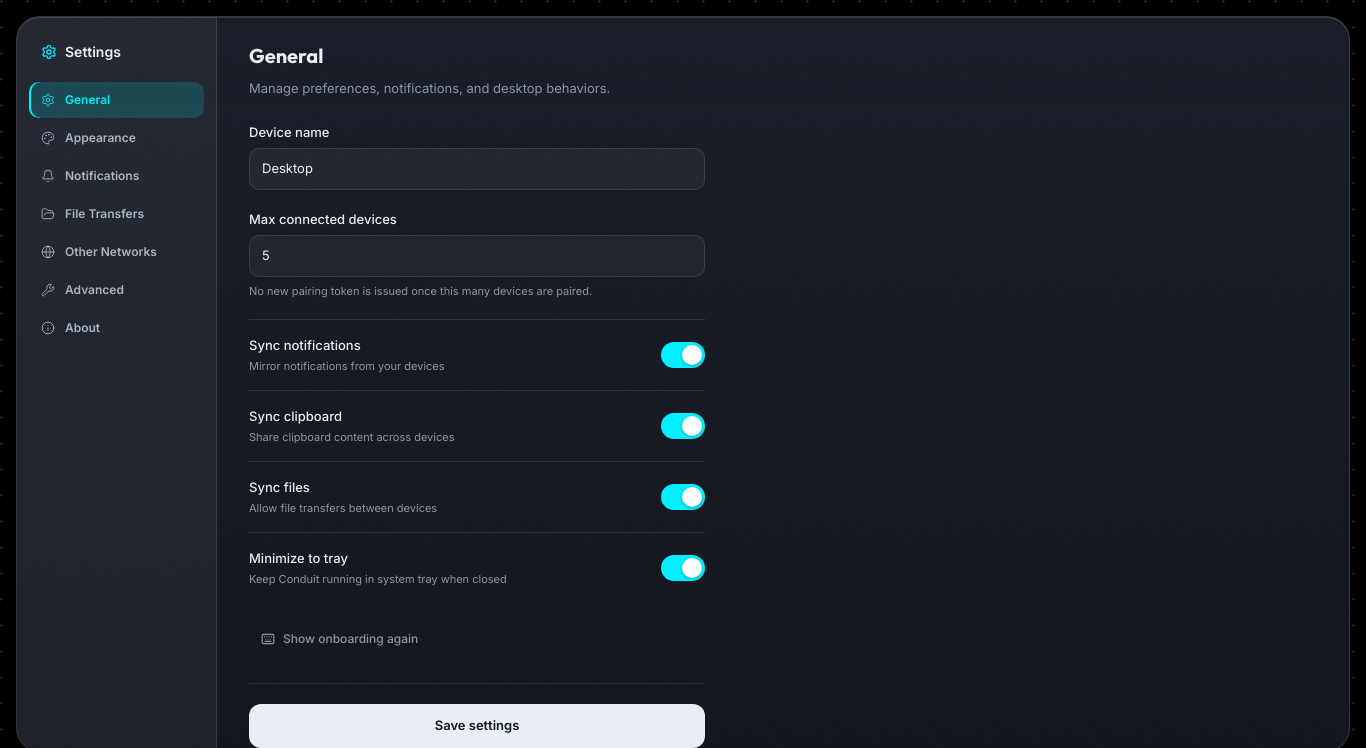
Settings › relay panel › shows the live status rather than claiming success on faith
The width and height of the screenshot is (1366, 748).
Expected: the text "Settings" is shown, [65, 41, 121, 62]
Click the button "Other Networks": (116, 252) [29, 234, 204, 270]
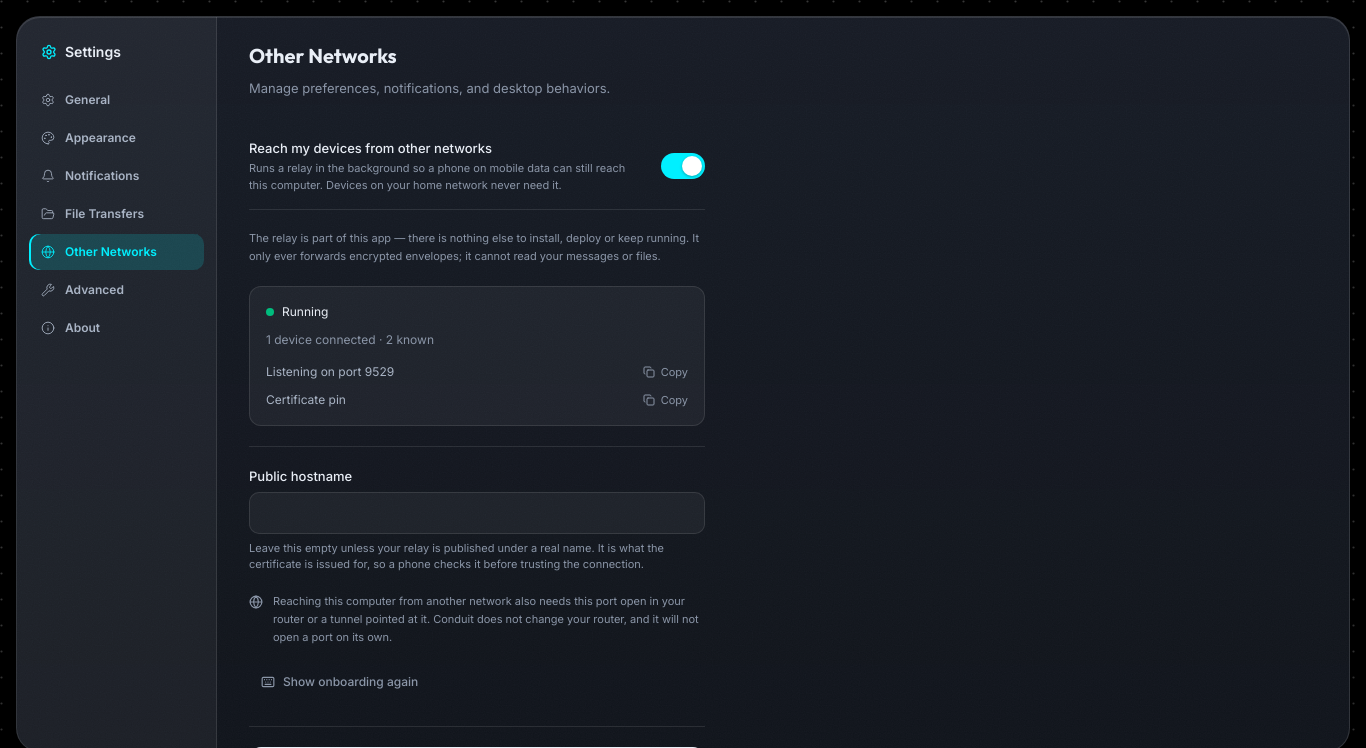
Expected: the text "Running" is shown, [282, 303, 328, 321]
Expected: the text "1 device connected · 2 known" is shown, [266, 332, 434, 347]
Expected: the text "Listening on port 9529" is shown, [266, 363, 394, 381]
